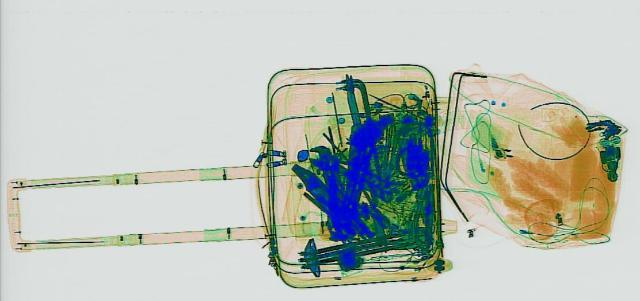Pliers: (279, 159, 339, 200)
